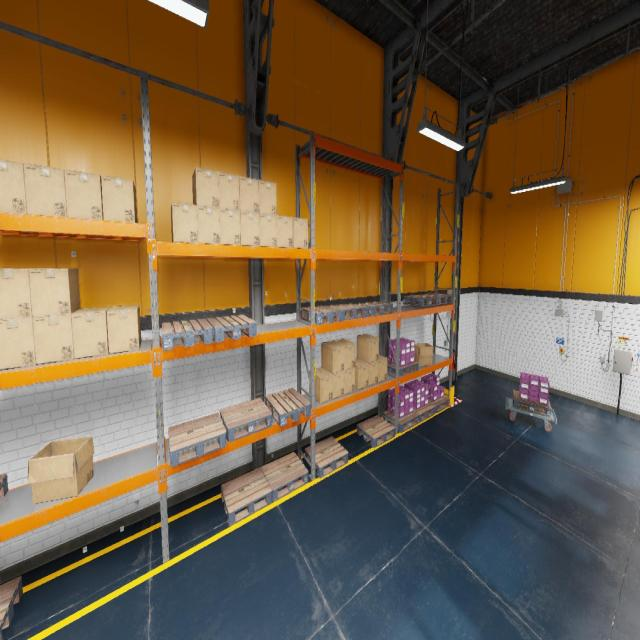box: (27, 436, 94, 504), (29, 268, 80, 316), (23, 163, 67, 217), (32, 314, 74, 365), (71, 306, 111, 358), (64, 169, 103, 220), (0, 317, 36, 370), (101, 175, 137, 223), (107, 304, 141, 354), (0, 268, 32, 319), (0, 159, 27, 214), (170, 202, 198, 243), (192, 167, 219, 208), (197, 206, 220, 244), (218, 172, 240, 210), (310, 367, 332, 403), (239, 176, 259, 213), (220, 208, 240, 244), (322, 341, 344, 373), (334, 338, 355, 371), (240, 211, 259, 246), (356, 333, 378, 362), (259, 180, 276, 215), (357, 358, 378, 386), (259, 214, 277, 246), (276, 215, 292, 248), (293, 217, 308, 248), (355, 358, 369, 389), (415, 342, 433, 366), (344, 367, 355, 395), (333, 371, 344, 399), (378, 354, 387, 382)
pallets: (168, 412, 226, 467), (221, 468, 272, 526), (261, 452, 308, 501), (220, 398, 272, 442), (305, 436, 348, 478), (265, 388, 311, 427), (162, 319, 213, 350), (0, 576, 23, 639), (207, 315, 256, 342), (357, 416, 395, 448), (513, 390, 551, 417), (301, 306, 343, 325), (383, 410, 419, 432), (327, 303, 368, 320), (357, 301, 392, 316), (388, 359, 418, 376), (403, 294, 438, 306), (413, 403, 435, 422), (428, 396, 449, 413), (422, 293, 453, 304), (0, 473, 8, 498)
